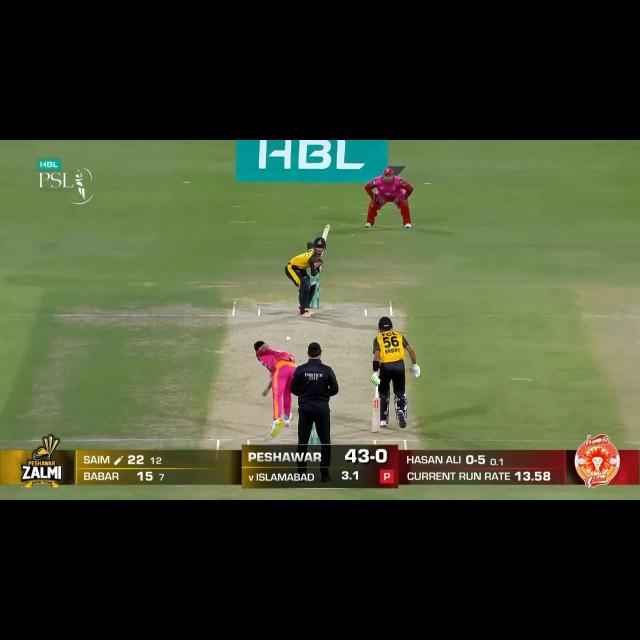bat: (371, 397, 384, 435), (322, 222, 331, 245)
toe: (370, 423, 380, 434), (322, 222, 332, 232)
